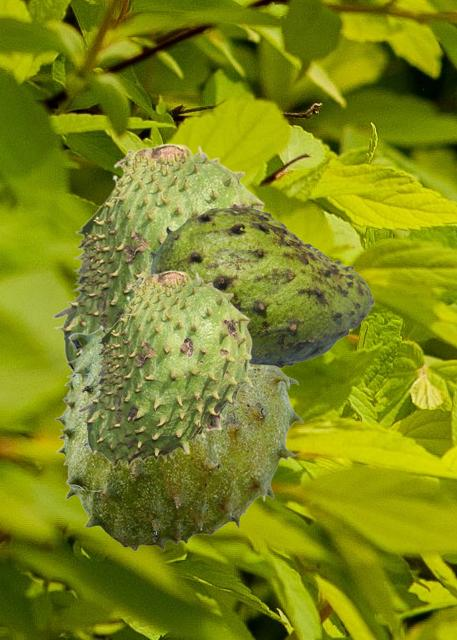guyabano: (54, 313, 303, 550), (52, 143, 265, 371), (149, 205, 373, 367), (77, 270, 253, 467)
